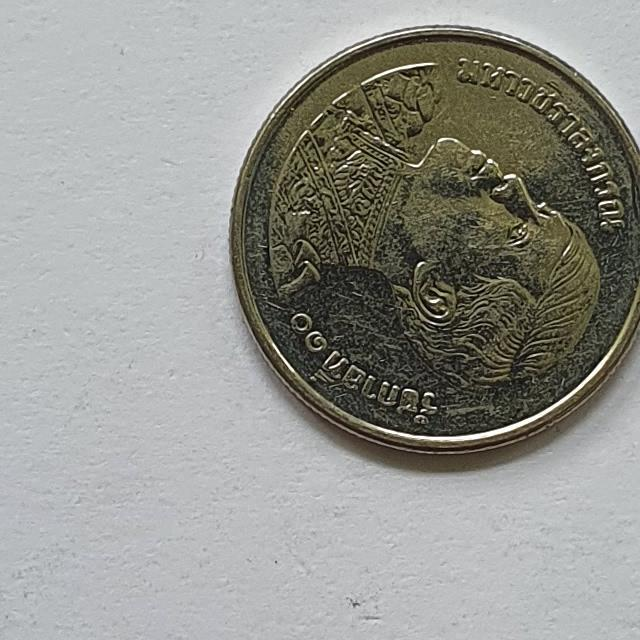1 Bath: (225, 19, 640, 468)
